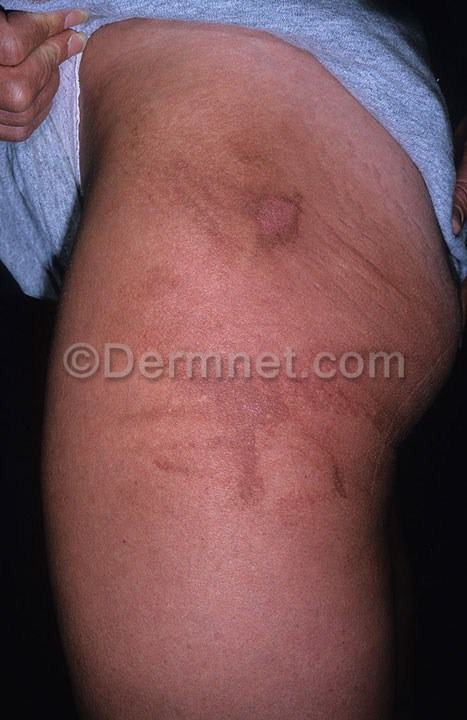Melasma: (138, 92, 347, 299), (115, 383, 353, 548)
